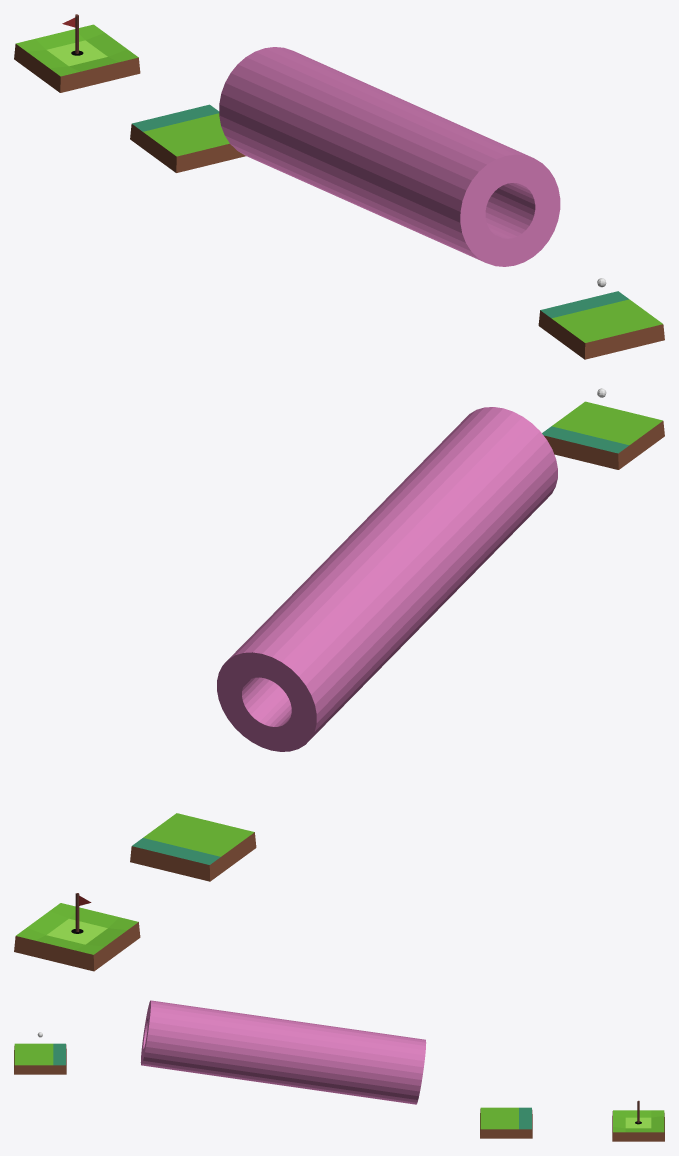
Rendered from level3.glb.
The picture shows the model from 3 angles, top to bottom: view 1: azimuth 30°, elevation 25°; view 2: azimuth 150°, elevation 25°; view 3: azimuth 270°, elevation 25°; orthographic projection. The views are drawn at different scales.
Visible parts, largest first — view 1: Cylinder, basic-moveable.001, end2, basic-moveable.002; view 2: Cylinder, basic-moveable.002, end2, basic-moveable.001; view 3: Cylinder, basic-moveable.001, basic-moveable.002, end2.
Part boxes in pixels (box(x1,y1,x2,y2)): Cylinder: box(219, 47, 560, 266); basic-moveable.001: box(538, 291, 664, 359); end2: box(14, 24, 140, 92); basic-moveable.002: box(130, 104, 245, 172); Cylinder: box(217, 407, 557, 751); basic-moveable.002: box(130, 813, 256, 881); end2: box(14, 903, 140, 971); basic-moveable.001: box(542, 401, 664, 469); Cylinder: box(140, 1000, 426, 1104); basic-moveable.001: box(14, 1043, 66, 1074); basic-moveable.002: box(480, 1107, 532, 1138); end2: box(612, 1110, 664, 1141).
Bounding box in the file's own units: 2.49 × 5.32 × 24.67.
3 materials, 3 textured.
